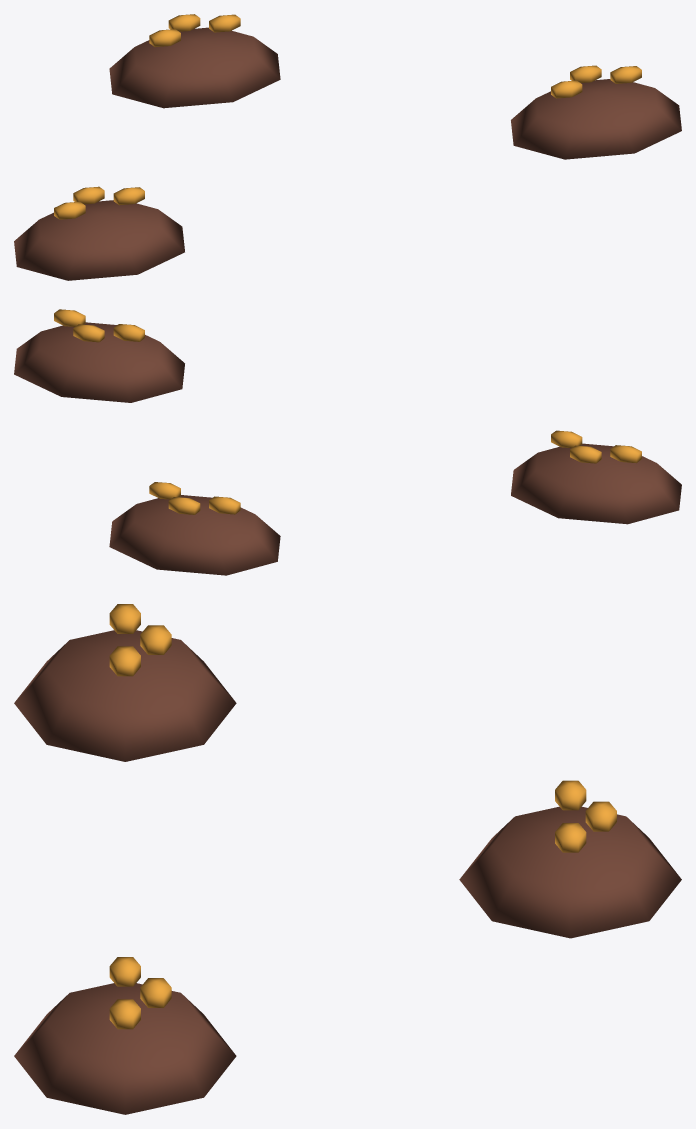
Rendered from stage_0_seed.glb.
3 renders of one model, top to bottom at view 1: azimuth 30°, elevation 25°; view 2: azimuth 150°, elevation 25°; view 3: azimuth 270°, elevation 25°, orthographic. The views are drawn at different scales.
Visible parts, largest first — view 1: 土丘.001, 土丘.002, 土丘, 种子.008, 种子.002, 种子.005, 种子, 种子.003, 种子.006, 种子.007, 种子.004, 种子.001; view 2: 土丘.001, 土丘, 土丘.002, 种子.006, 种子.007, 种子, 种子.001, 种子.004, 种子.003, 种子.005, 种子.008, 种子.002; view 3: 土丘.001, 土丘.002, 土丘, 种子.005, 种子.002, 种子.006, 种子.007, 种子, 种子.003, 种子.001, 种子.008, 种子.004.
Boxes of the visible parts, left/top/right/bottom form: 土丘.001: left=511, top=79, right=681, bottom=159; 土丘.002: left=109, top=27, right=280, bottom=108; 土丘: left=14, top=200, right=184, bottom=280; 种子.008: left=209, top=14, right=240, bottom=32; 种子.002: left=113, top=187, right=144, bottom=205; 种子.005: left=610, top=66, right=641, bottom=83; 种子: left=54, top=201, right=85, bottom=219; 种子.003: left=551, top=80, right=582, bottom=98; 种子.006: left=149, top=29, right=180, bottom=46; 种子.007: left=168, top=14, right=200, bottom=31; 种子.004: left=570, top=65, right=601, bottom=82; 种子.001: left=73, top=186, right=104, bottom=204; 土丘.001: left=14, top=322, right=184, bottom=402; 土丘: left=511, top=443, right=681, bottom=524; 土丘.002: left=109, top=495, right=280, bottom=575; 种子.006: left=209, top=496, right=240, bottom=514; 种子.007: left=168, top=497, right=200, bottom=514; 种子: left=610, top=445, right=641, bottom=463; 种子.001: left=570, top=445, right=601, bottom=463; 种子.004: left=73, top=324, right=104, bottom=342; 种子.003: left=113, top=324, right=144, bottom=341; 种子.005: left=54, top=309, right=85, bottom=326; 种子.008: left=149, top=482, right=180, bottom=499; 种子.002: left=551, top=430, right=582, bottom=448; 土丘.001: left=14, top=983, right=236, bottom=1114; 土丘.002: left=459, top=806, right=681, bottom=938; 土丘: left=14, top=630, right=236, bottom=761; 种子.005: left=109, top=999, right=140, bottom=1029; 种子.002: left=109, top=646, right=140, bottom=676; 种子.006: left=555, top=780, right=586, bottom=810; 种子.007: left=585, top=801, right=616, bottom=831; 种子: left=109, top=604, right=140, bottom=633; 种子.003: left=109, top=957, right=140, bottom=986; 种子.001: left=140, top=625, right=171, bottom=654; 种子.008: left=555, top=823, right=586, bottom=852; 种子.004: left=140, top=978, right=171, bottom=1007.
Size of the model in its own units: 0.8 by 0.059 by 0.48.
1 material, 1 textured.
